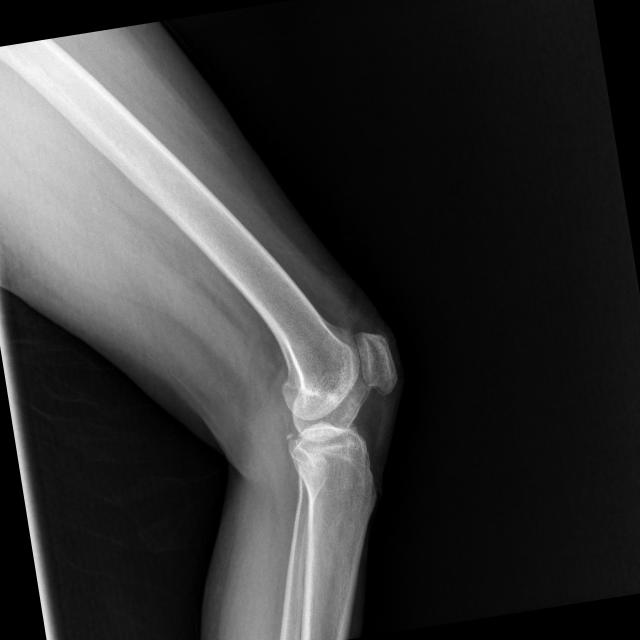Knee: (263, 319, 414, 498)
